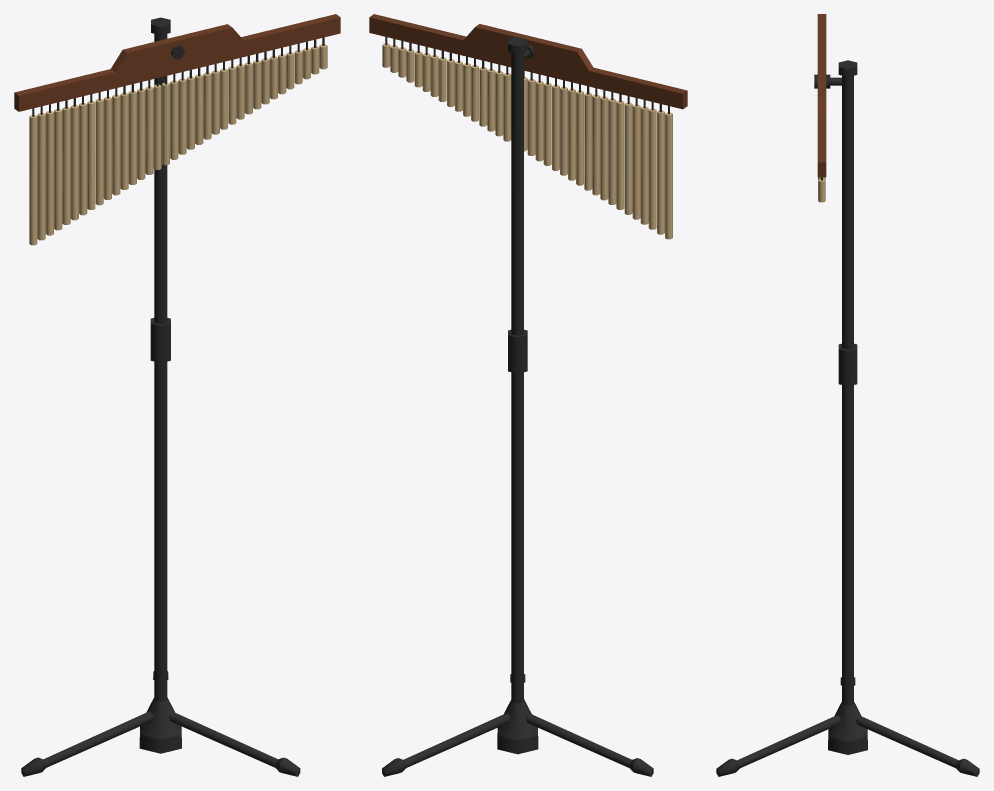
File: Chimes_01.fbx
The picture shows the model from 3 angles, left to right: view 1: azimuth 30°, elevation 25°; view 2: azimuth 150°, elevation 25°; view 3: azimuth 270°, elevation 25°; orthographic projection. The views are drawn at different scales.
Visible parts, largest first — view 1: Chimes_01; view 2: Chimes_01; view 3: Chimes_01.
Part boxes in pixels (x1=…): Chimes_01: x1=14, y1=14, x2=340, y2=776; Chimes_01: x1=369, y1=14, x2=687, y2=776; Chimes_01: x1=716, y1=14, x2=979, y2=776.
Bounding box in the file's own units: 0.686 × 1.47 × 0.5148.
